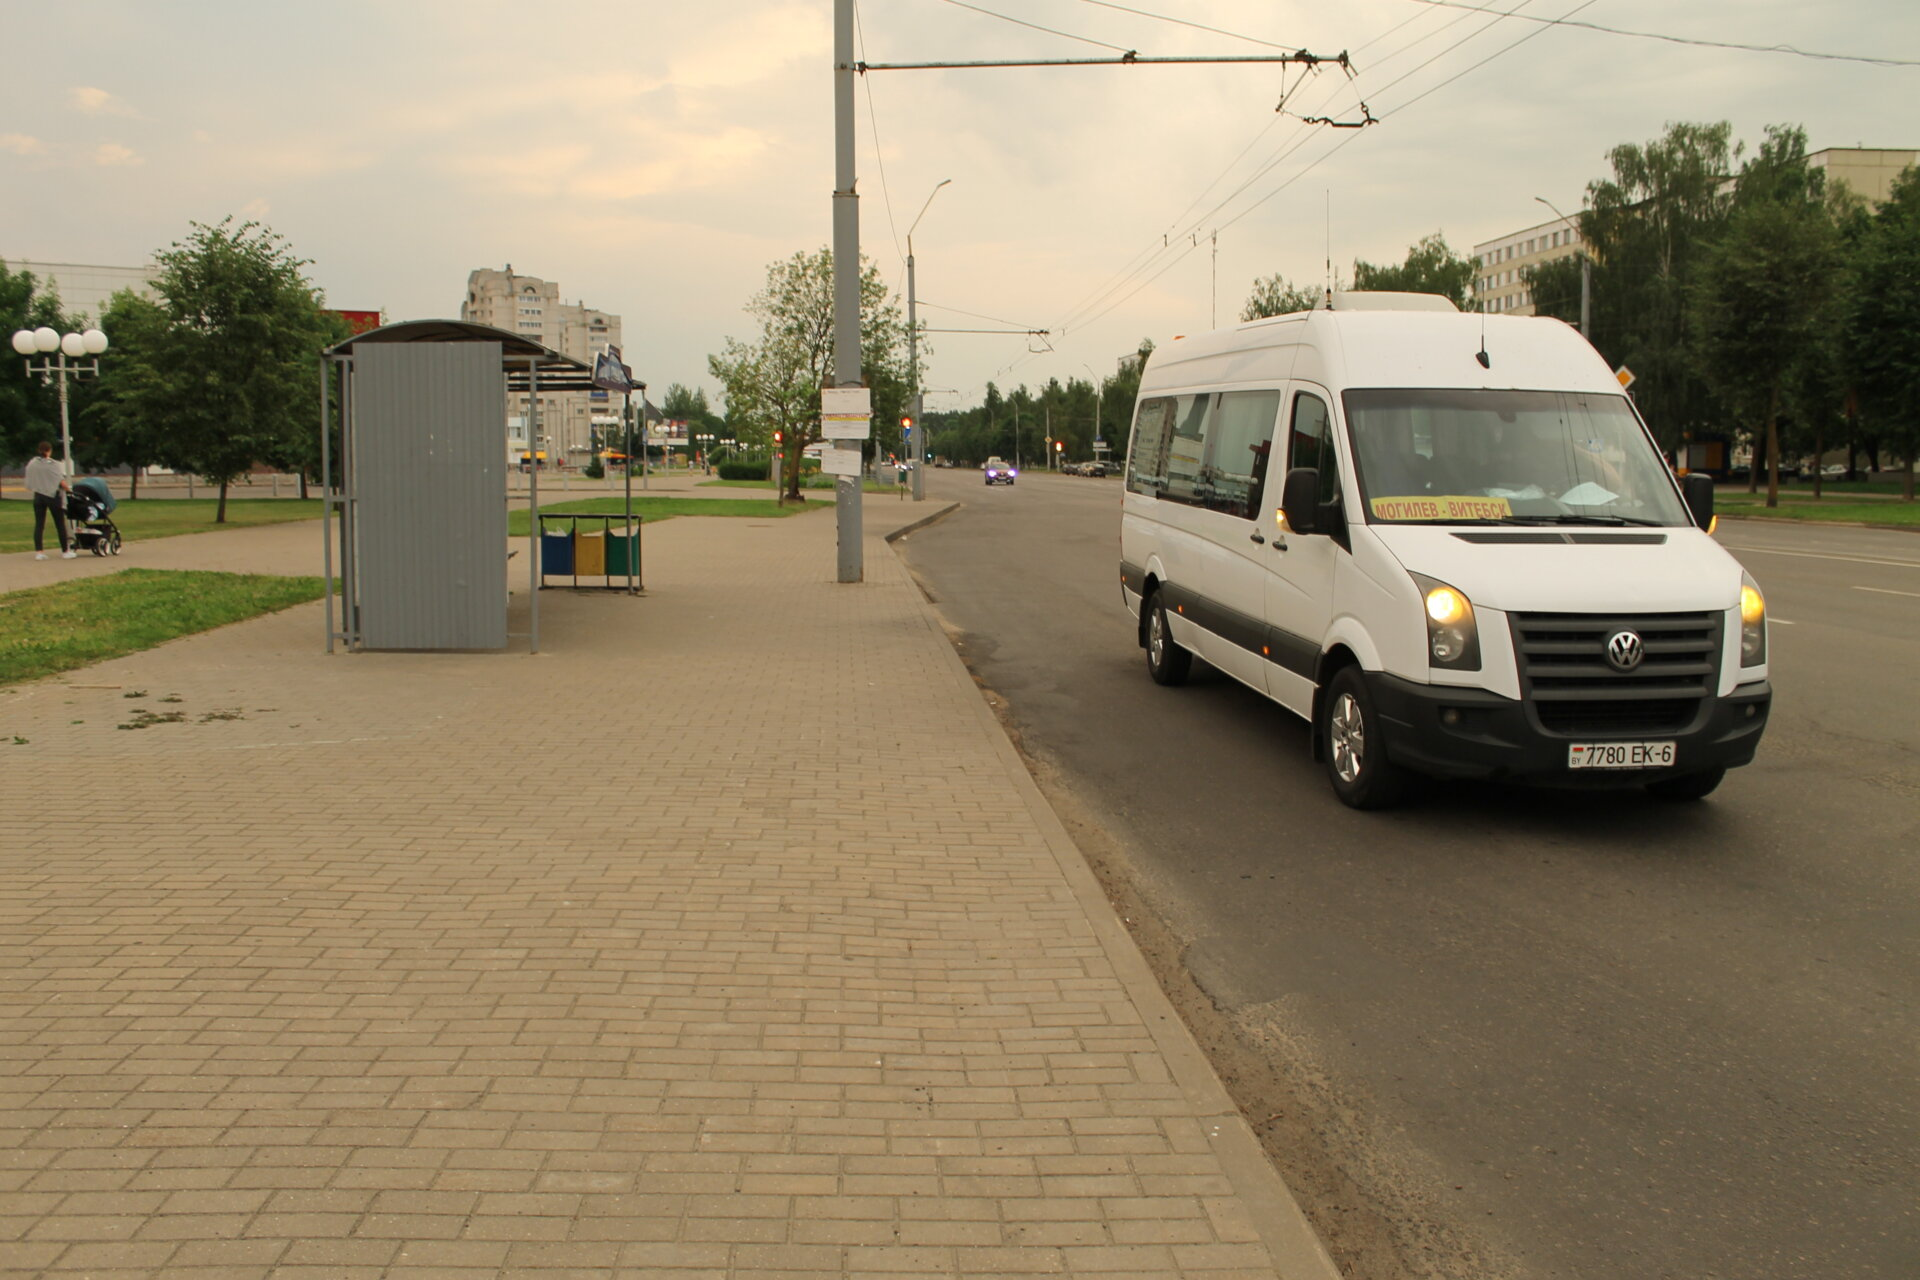van: (1117, 294, 1771, 819)
